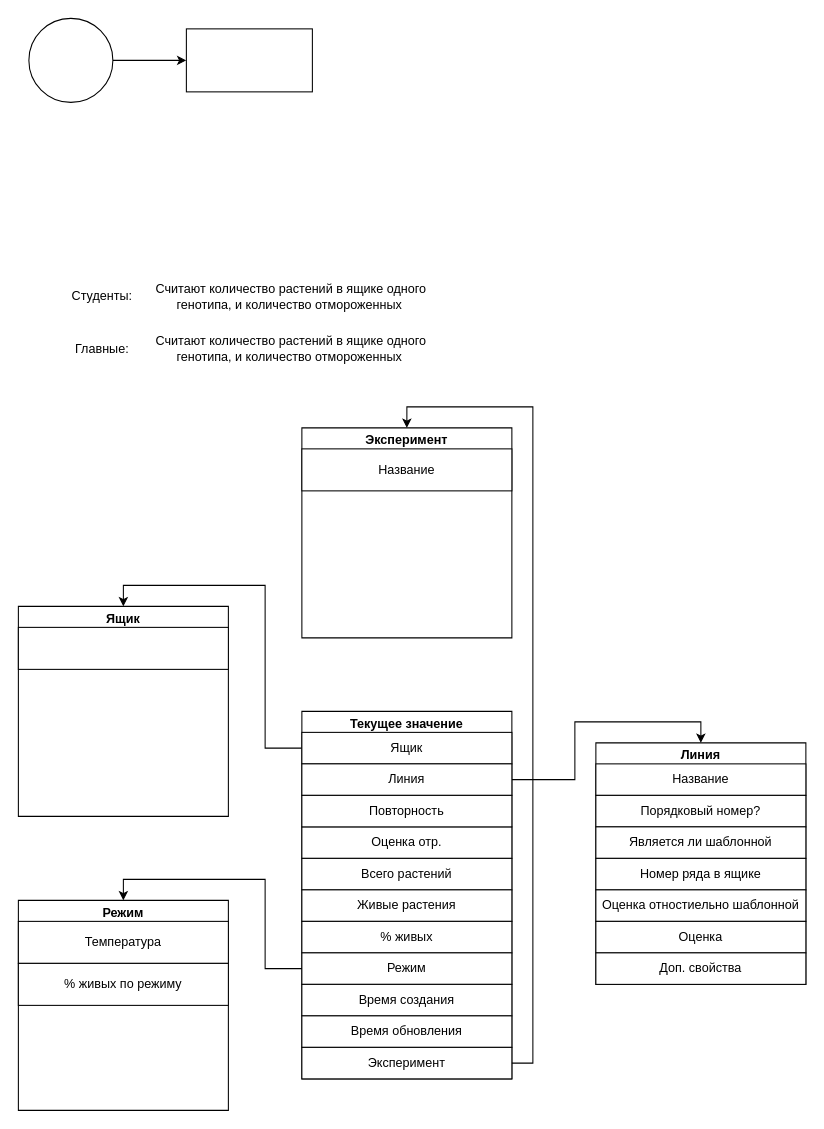
Image size: 824x1129. Some labels were removed from this diagram. The centre of each missing label's shape, as x and y in pixels:
Номер ящика: the point at 122,647
Пользователь заходит: the point at 70,59
